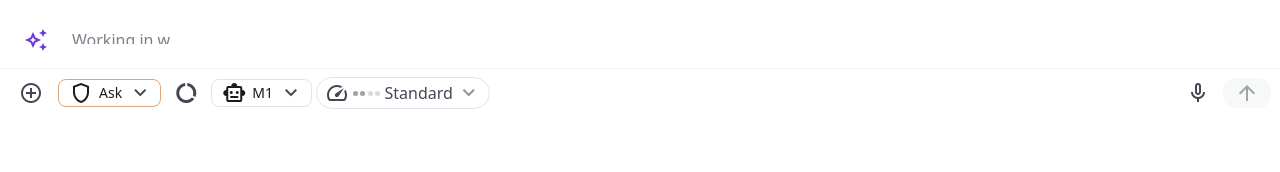
Test: ChatInput input history recall (A-22) › Down past the newest restores a NON-empty snapshot with history mode re-armable
Type "draft text" into the text box named "Message" at {"x": 668, "y": 28}, box x1=64 y1=12 x2=1272 y2=44
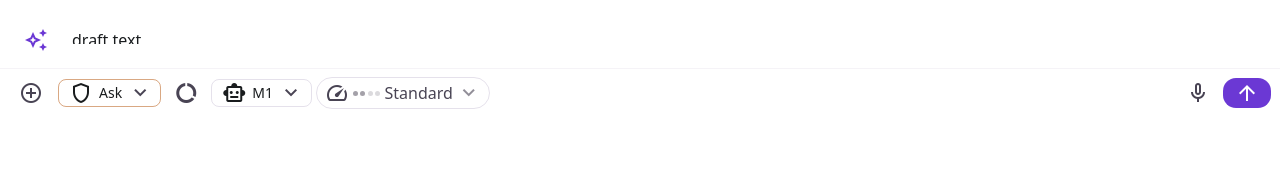
Press ArrowUp in the text box named "Message", box x1=64 y1=12 x2=1272 y2=44
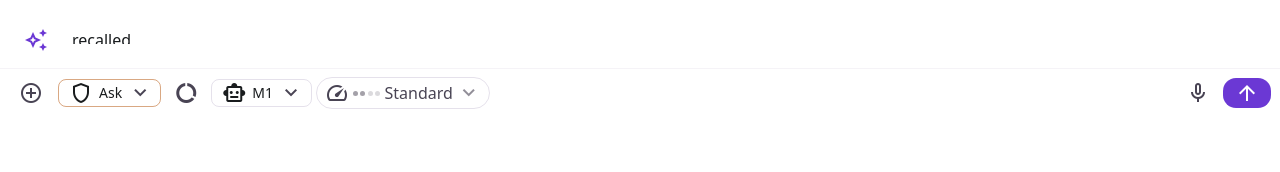
Now the text box named "Message" holds "recalled"
Press ArrowDown in the text box named "Message", box x1=64 y1=12 x2=1272 y2=44
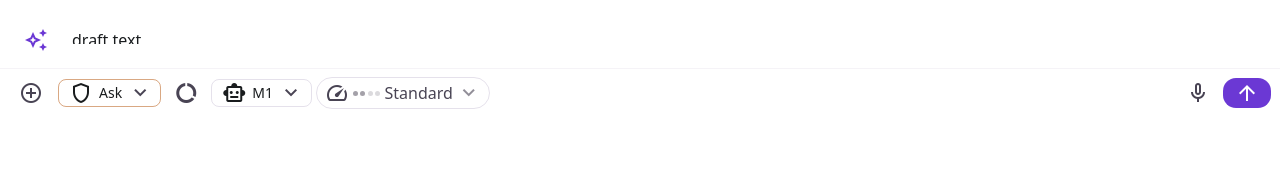
Press ArrowUp in the text box named "Message", box x1=64 y1=12 x2=1272 y2=44
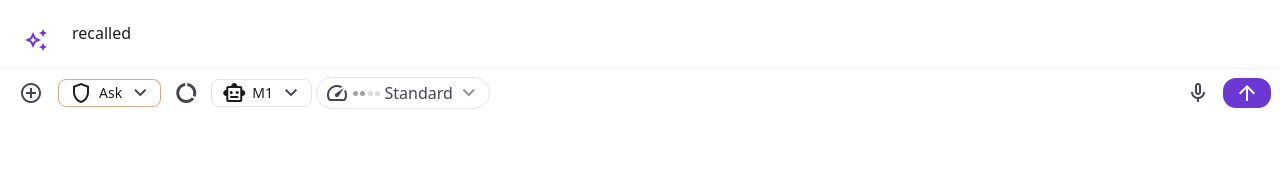
Now the text box named "Message" holds "recalled", box x1=64 y1=12 x2=1272 y2=44
